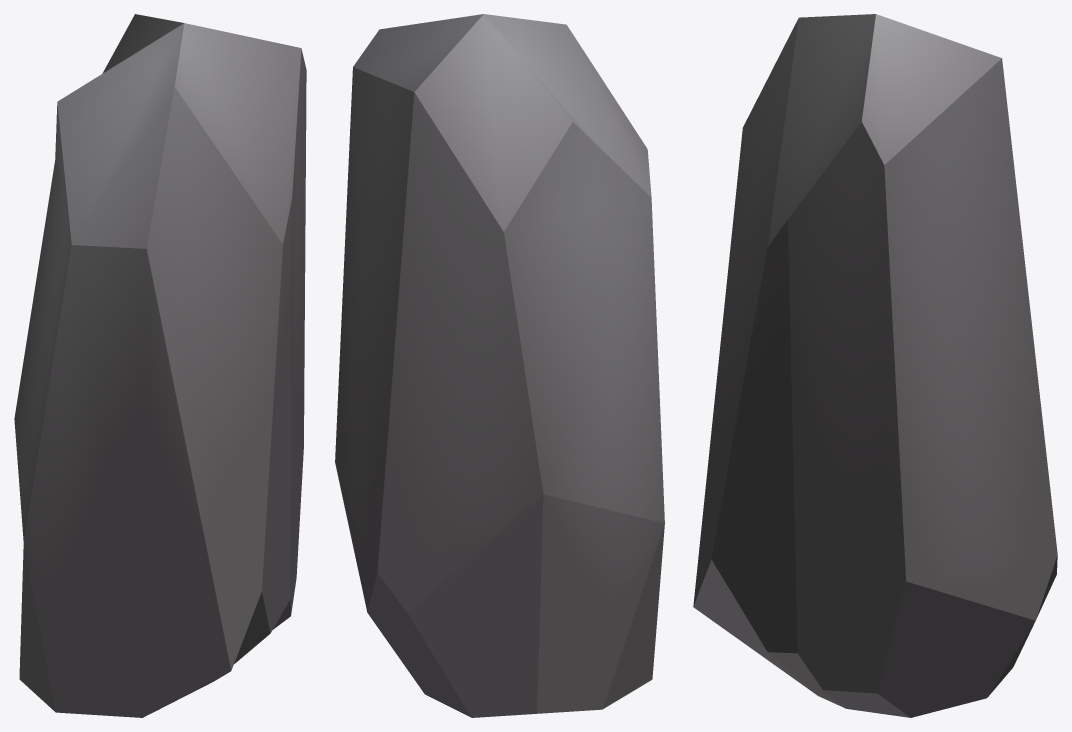
File: TallSize_Rock.fbx
3 renders of one model, left to right at view 1: azimuth 30°, elevation 25°; view 2: azimuth 150°, elevation 25°; view 3: azimuth 270°, elevation 25°, orthographic. The views are drawn at different scales.
Parts seen in each view (by area): view 1: TallSize_Rock; view 2: TallSize_Rock; view 3: TallSize_Rock.
Boxes of the visible parts, <box> form: TallSize_Rock: <box>14,14,306,717</box>; TallSize_Rock: <box>335,14,664,717</box>; TallSize_Rock: <box>693,14,1057,717</box>.
Size of the model in its own units: 1.72 by 3.46 by 1.68.
Materials: 1 (1 with a texture image).
